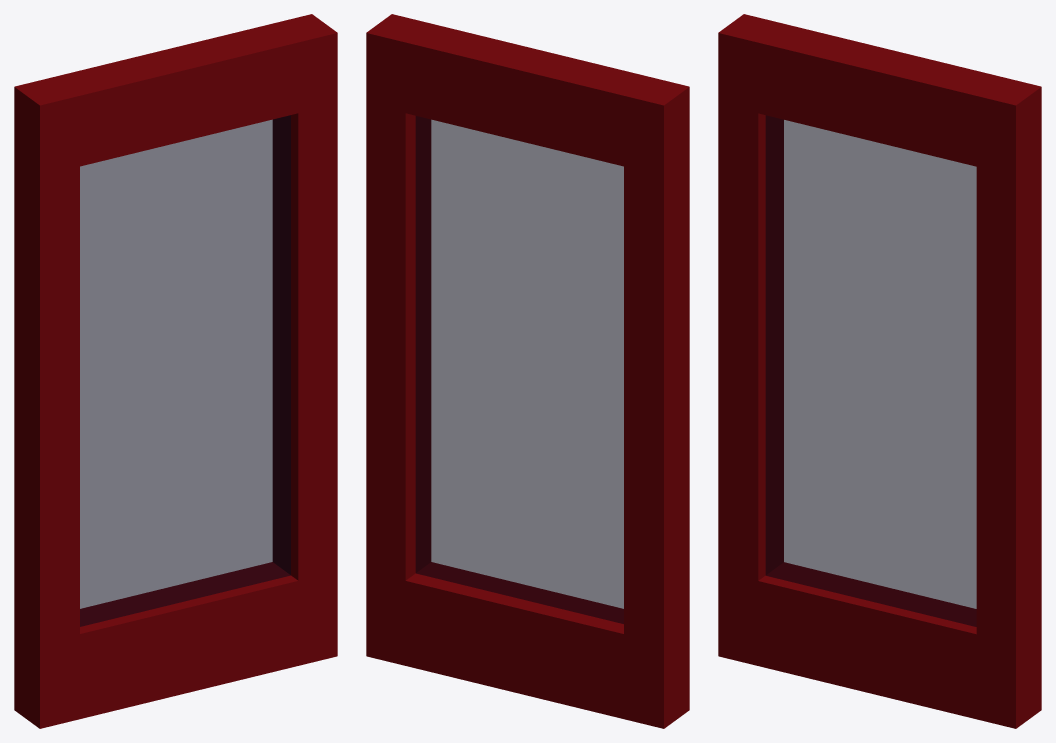
The model's file is RedWindowLarge.glb.
3 views of the same model, side by side, from view 1: azimuth 30°, elevation 25°; view 2: azimuth 150°, elevation 25°; view 3: azimuth 330°, elevation 25° (orthographic).
Parts seen in each view (by area): view 1: wall_largeWindow_red; view 2: wall_largeWindow_red; view 3: wall_largeWindow_red.
Boxes of the visible parts, <box> form: wall_largeWindow_red: <box>14,14,337,728</box>; wall_largeWindow_red: <box>366,14,689,728</box>; wall_largeWindow_red: <box>718,14,1041,728</box>.
Size of what is drawn, in the model's own units: 2 by 4 by 0.3.
2 materials, 2 textured.
